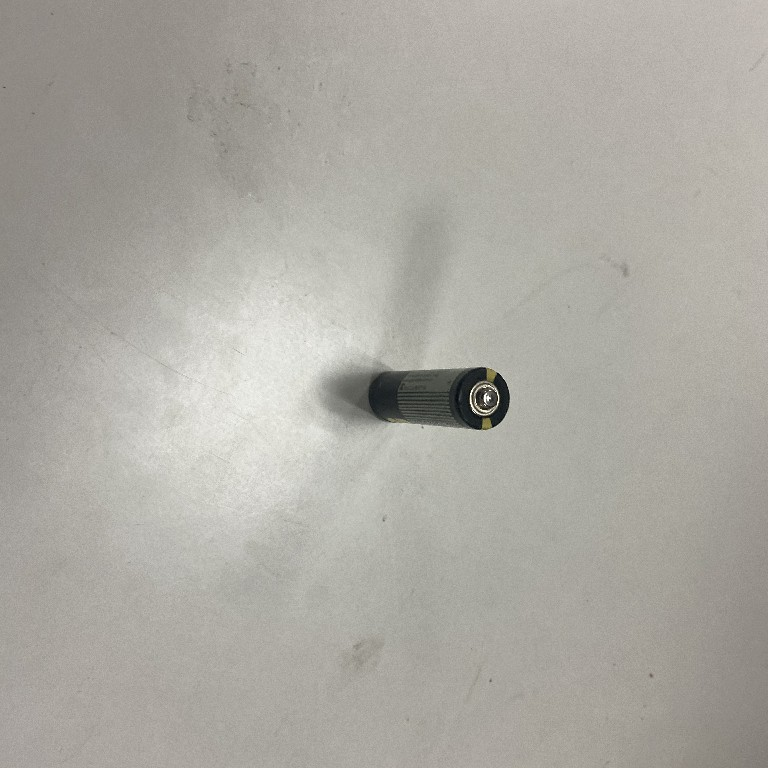charge: (366, 367, 511, 430)
